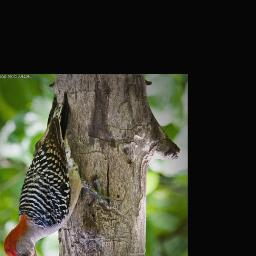Woodpecker: (0, 91, 126, 256)
